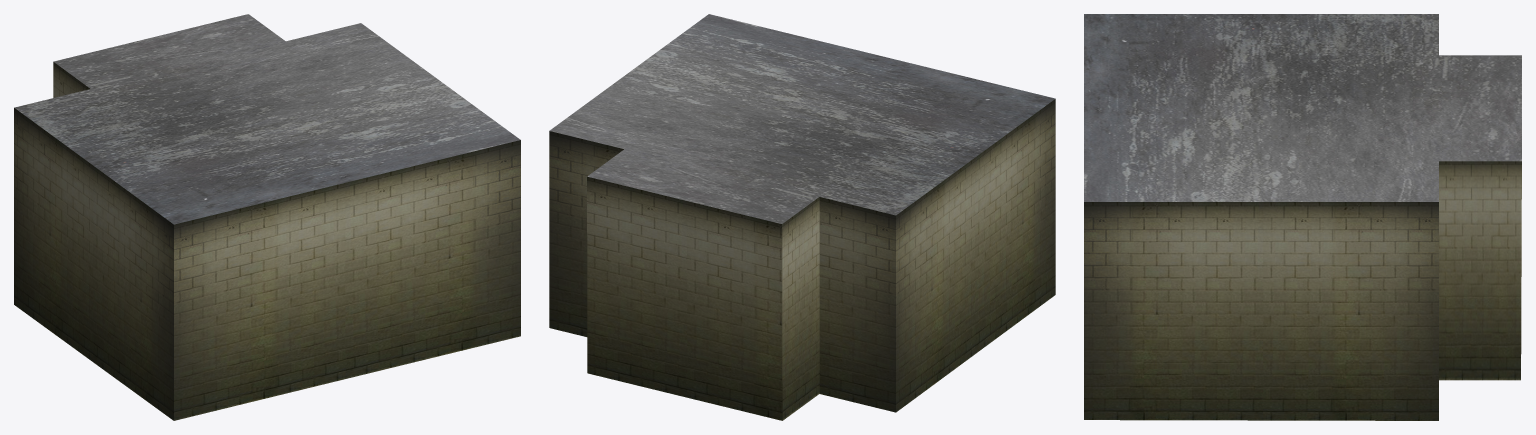
The model's file is mod_story.fbx.
The picture shows the model from 3 angles, left to right: view 1: azimuth 30°, elevation 25°; view 2: azimuth 150°, elevation 25°; view 3: azimuth 270°, elevation 25°; orthographic projection. The views are drawn at different scales.
Visible parts, largest first — view 1: polySurface1472; view 2: polySurface1472; view 3: polySurface1472.
Part boxes in pixels (x1,y1,x2,y2): polySurface1472: (14,14,520,420); polySurface1472: (549,14,1055,420); polySurface1472: (1084,14,1521,420).
Size of the model in its own units: 14.12 by 7.67 by 13.9.
Materials: 1 (1 with a texture image).
